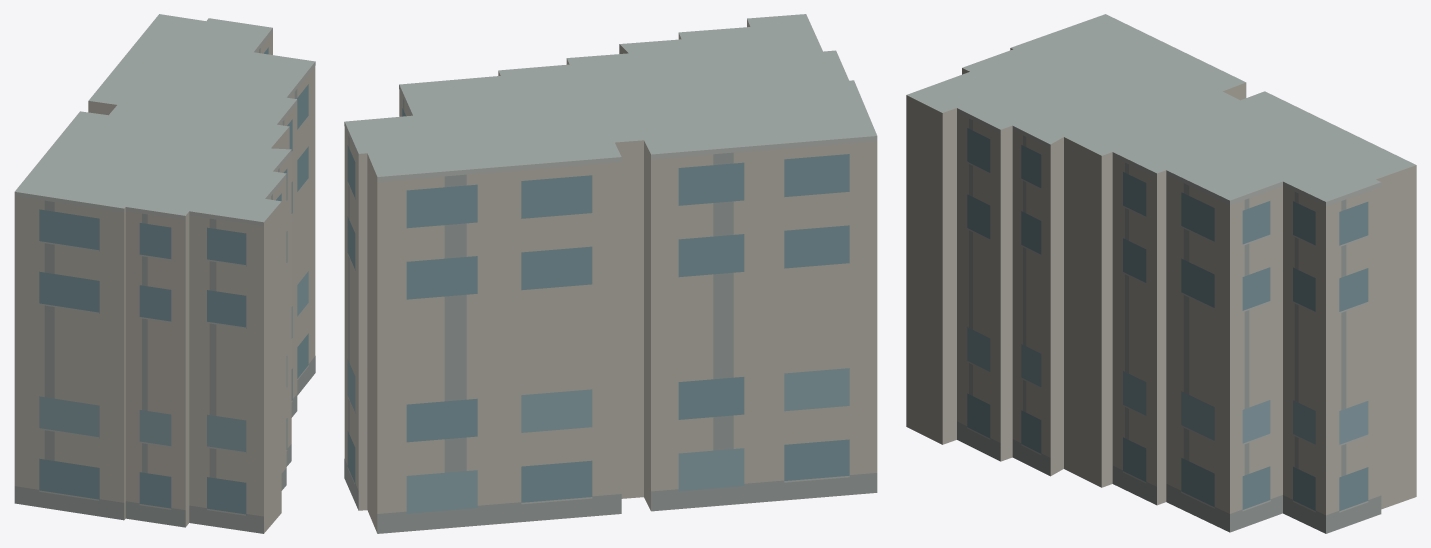
The model's file is survey-upis-32624338.glb.
3 views of the same model, side by side, from view 1: azimuth 30°, elevation 25°; view 2: azimuth 150°, elevation 25°; view 3: azimuth 270°, elevation 25° (orthographic). The views are drawn at different scales.
Parts seen in each view (by area): view 1: survey-upis-32624338.tmp; view 2: survey-upis-32624338.tmp; view 3: survey-upis-32624338.tmp.
Part boxes in pixels (box(x1,y1,x2,y2)): survey-upis-32624338.tmp: box(14, 14, 315, 533); survey-upis-32624338.tmp: box(344, 14, 877, 533); survey-upis-32624338.tmp: box(906, 14, 1416, 533).
Bounding box in the file's own units: 21.73 × 17.88 × 24.91.
